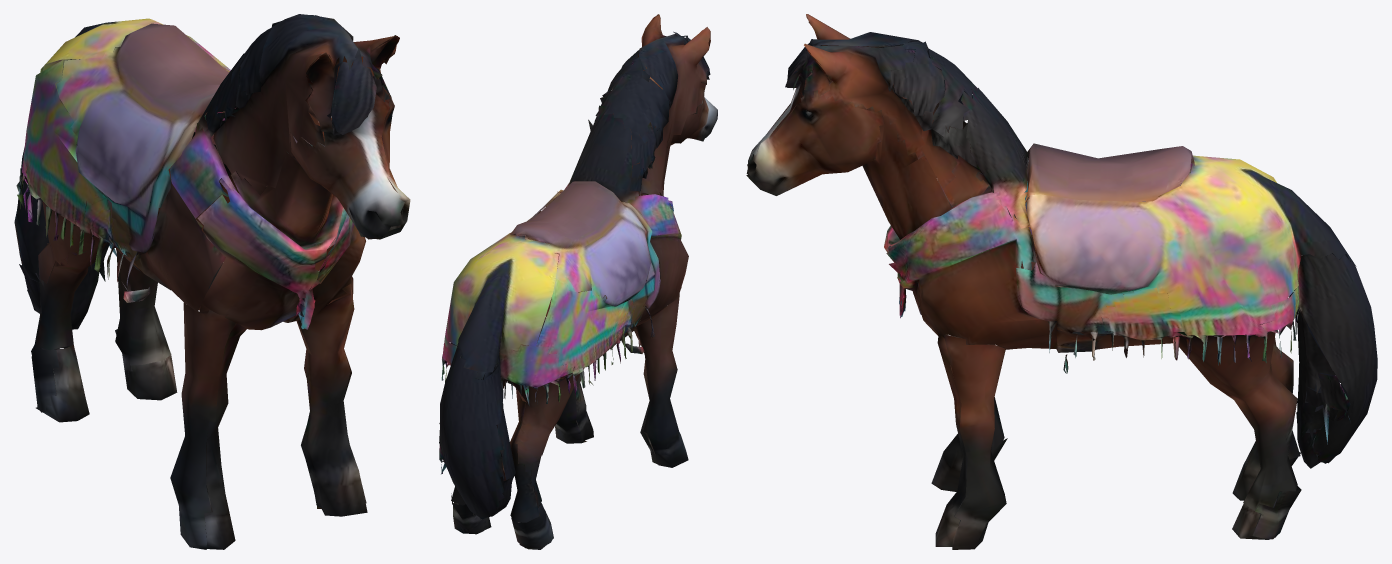
File: pony.glb
The picture shows the model from 3 angles, left to right: view 1: azimuth 30°, elevation 25°; view 2: azimuth 150°, elevation 25°; view 3: azimuth 270°, elevation 25°; orthographic projection. The views are drawn at different scales.
Parts seen in each view (by area): view 1: model; view 2: model; view 3: model.
Part boxes in pixels (bbox=[...]): model: bbox=[14, 14, 410, 549]; model: bbox=[439, 14, 717, 549]; model: bbox=[746, 14, 1377, 549].
Size of the model in its own units: 0.3777 by 1 by 1.18.
Materials: 1 (1 with a texture image).
